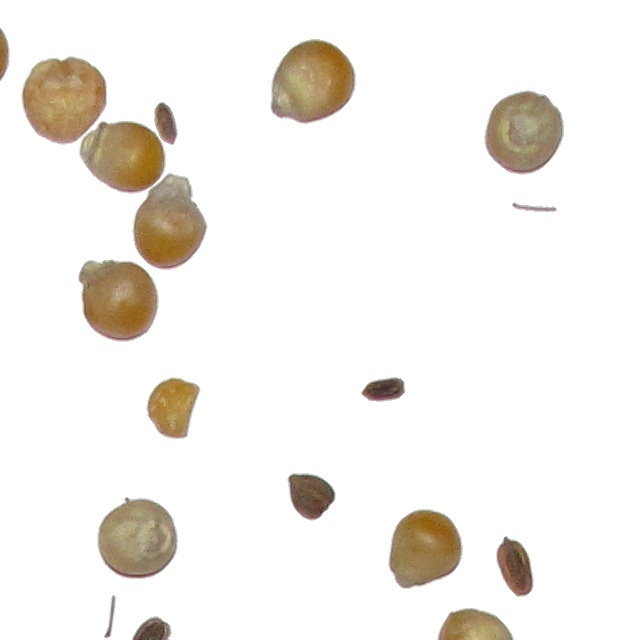buckwheat: (286, 472, 337, 522), (495, 535, 535, 598), (360, 376, 407, 403), (130, 615, 173, 640)
dill: (103, 594, 117, 640), (511, 201, 558, 213)
mais: (20, 55, 108, 146), (131, 172, 209, 271), (269, 38, 357, 125), (483, 89, 565, 176), (77, 258, 160, 343), (96, 496, 179, 580), (78, 120, 167, 195), (387, 508, 464, 590), (145, 376, 202, 440), (435, 607, 529, 640)
other: (153, 101, 179, 146)
